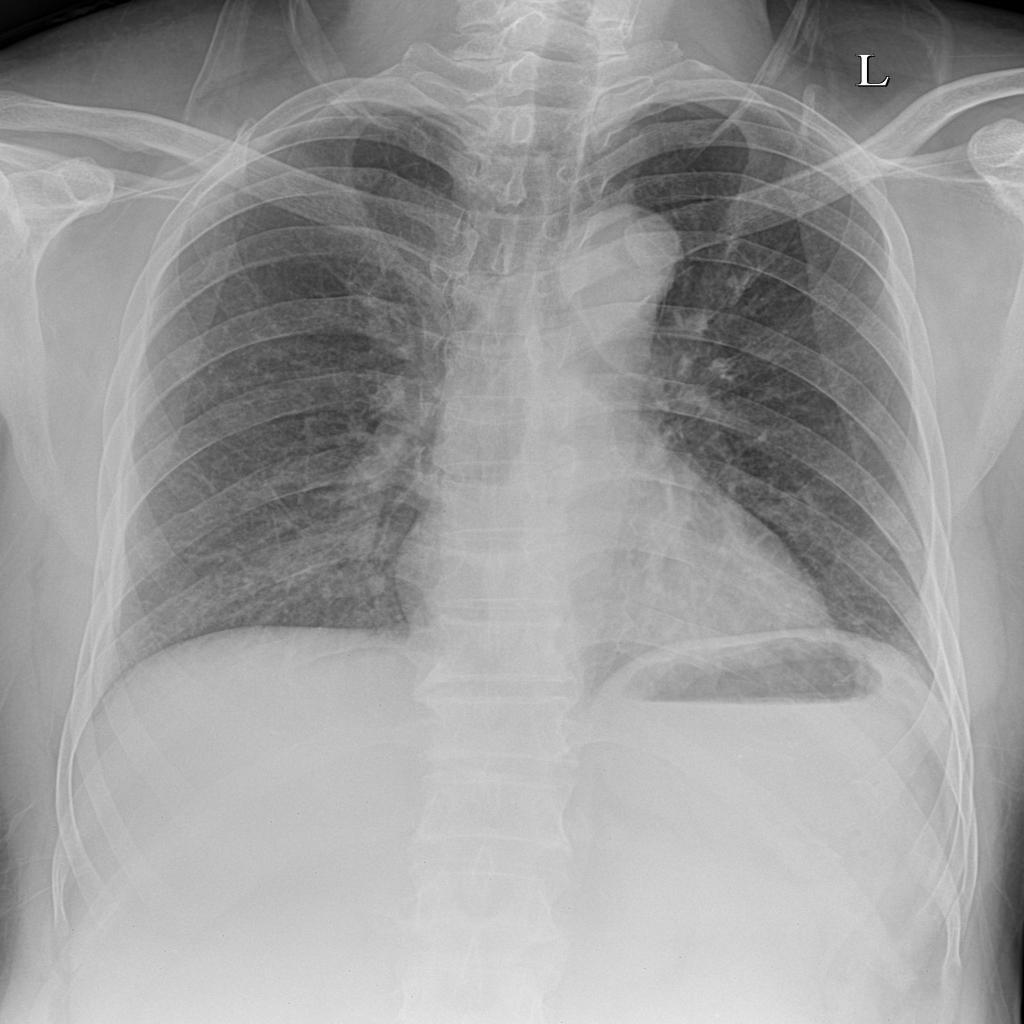Nodule: (327, 557, 400, 606), (725, 271, 749, 293)
